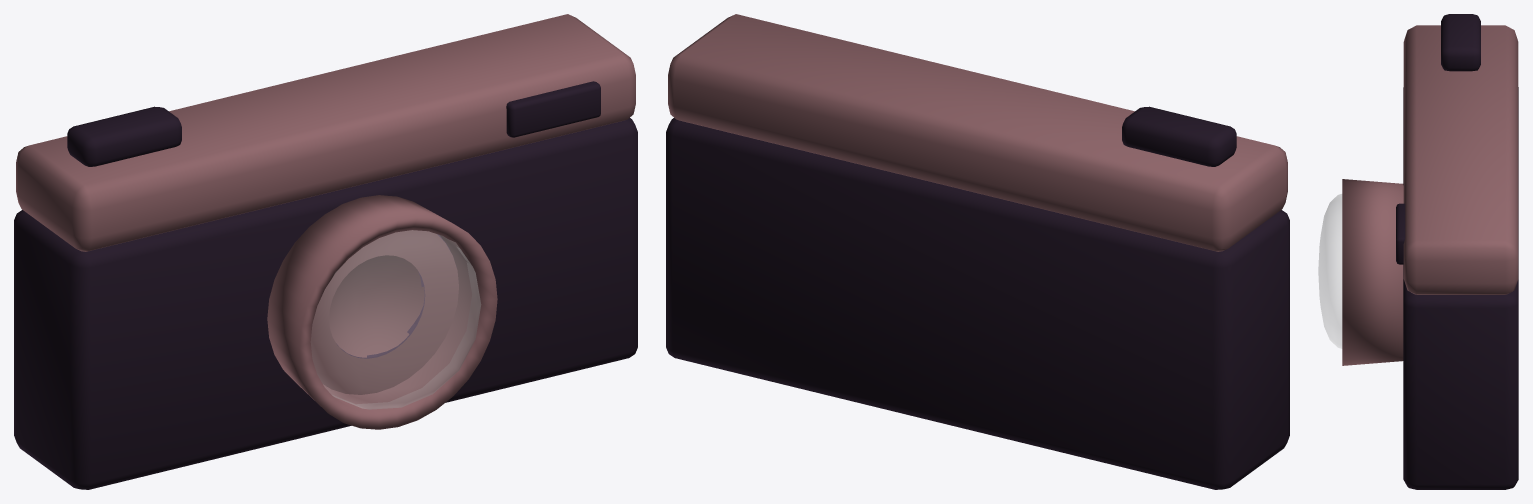
The model's file is camera FINAL.glb.
The picture shows the model from 3 angles, left to right: view 1: azimuth 30°, elevation 25°; view 2: azimuth 150°, elevation 25°; view 3: azimuth 270°, elevation 25°; orthographic projection. The views are drawn at different scales.
Parts seen in each view (by area): view 1: Cube.001, Cube.002, Cylinder, Cube.004, Circle, Circle.001, Cube.005; view 2: Cube.001, Cube.002, Circle.001; view 3: Cube.002, Cube.001, Cylinder, Cube.004, Circle.001, Cube.005.
Part boxes in pixels (x1,y1,x2,y2): Cube.001: [14, 118, 637, 489]; Cube.002: [16, 14, 635, 251]; Cylinder: [267, 195, 497, 429]; Cube.004: [311, 230, 480, 409]; Circle: [310, 230, 458, 394]; Circle.001: [67, 106, 456, 358]; Cube.005: [506, 81, 600, 137]; Cube.001: [666, 118, 1289, 489]; Cube.002: [668, 14, 1287, 251]; Circle.001: [1122, 106, 1236, 166]; Cube.002: [1403, 25, 1518, 294]; Cube.001: [1403, 87, 1518, 489]; Cylinder: [1342, 179, 1403, 365]; Cube.004: [1318, 194, 1341, 348]; Circle.001: [1441, 14, 1480, 71]; Cube.005: [1396, 203, 1405, 264].
Size of the model in its own units: 2.91 by 1.63 by 1.09.
